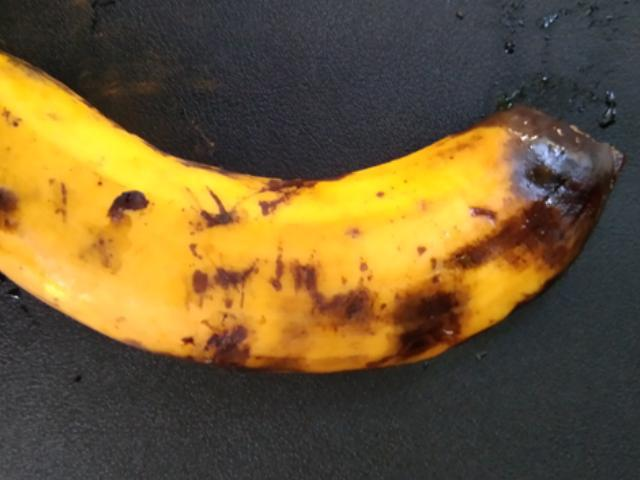ripe: (0, 36, 291, 382)
rotten: (260, 84, 623, 407)
